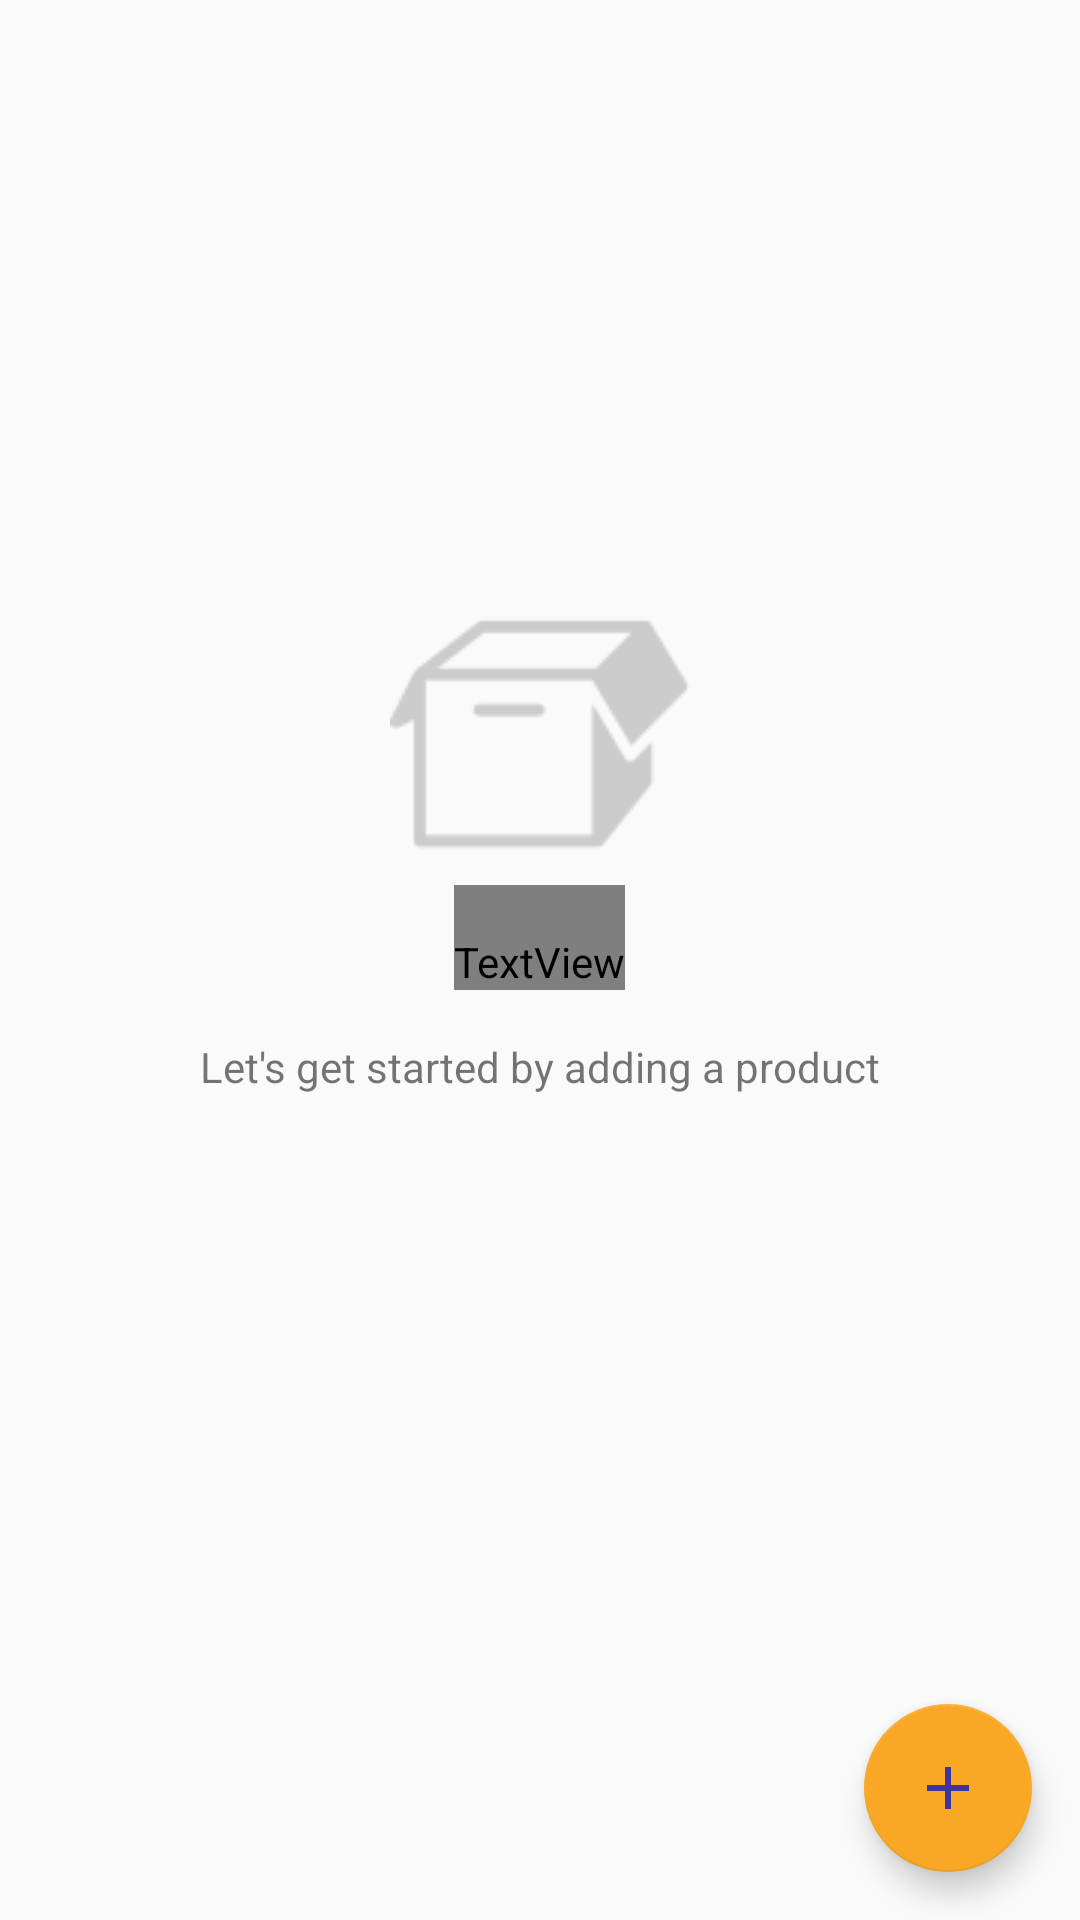

Icon click points for this 1080 x 1920 phone screenshot, format [x,y]:
add: [948,1788]
image of empty box: [538,734]
